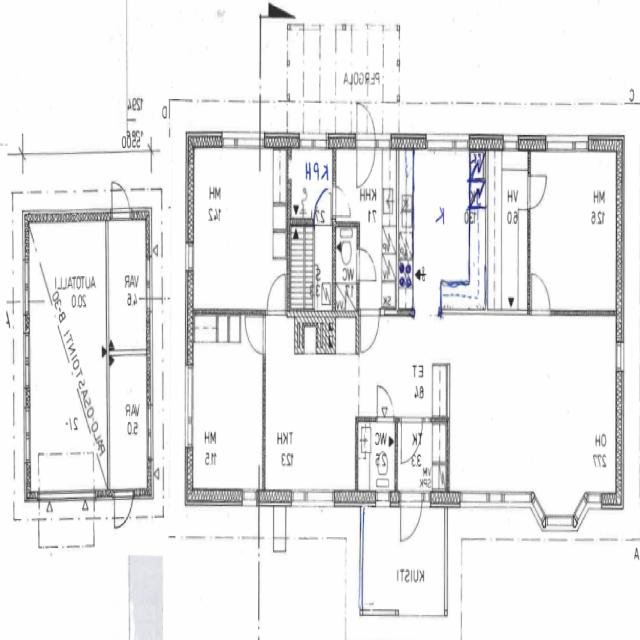door: (400, 490, 422, 548), (356, 97, 376, 149), (356, 135, 376, 187), (115, 486, 134, 537), (402, 417, 422, 463), (112, 172, 130, 220), (531, 272, 551, 315), (243, 318, 266, 355), (361, 309, 380, 352), (268, 274, 286, 316), (314, 185, 332, 225), (528, 174, 548, 208), (333, 185, 353, 216), (357, 248, 376, 279), (377, 386, 393, 422)
